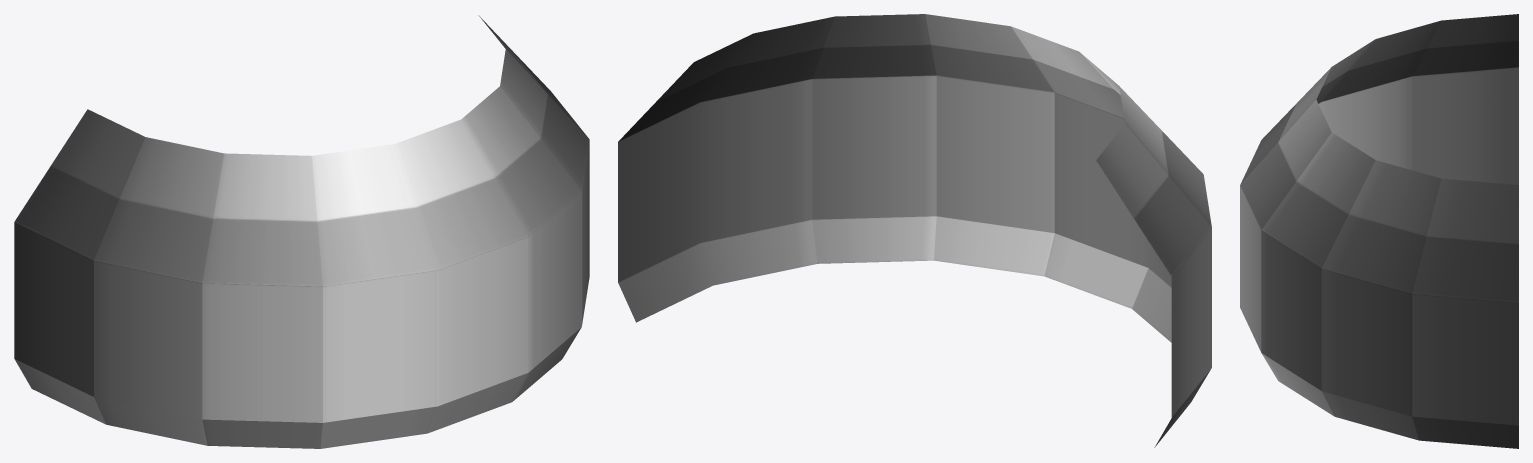
Rendered from deployed.gltf.
3 renders of one model, left to right at view 1: azimuth 30°, elevation 25°; view 2: azimuth 150°, elevation 25°; view 3: azimuth 270°, elevation 25°, orthographic. The views are drawn at different scales.
Visible parts, largest first — view 1: Cylinder; view 2: Cylinder; view 3: Cylinder.
Boxes of the visible parts, x1,y1,x2,y2 form: Cylinder: (14, 15, 589, 448); Cylinder: (618, 14, 1211, 447); Cylinder: (1240, 14, 1518, 448).
Bounding box in the file's own units: 0.8256 × 0.3911 × 0.4128.
Materials: 1 (1 with a texture image).
